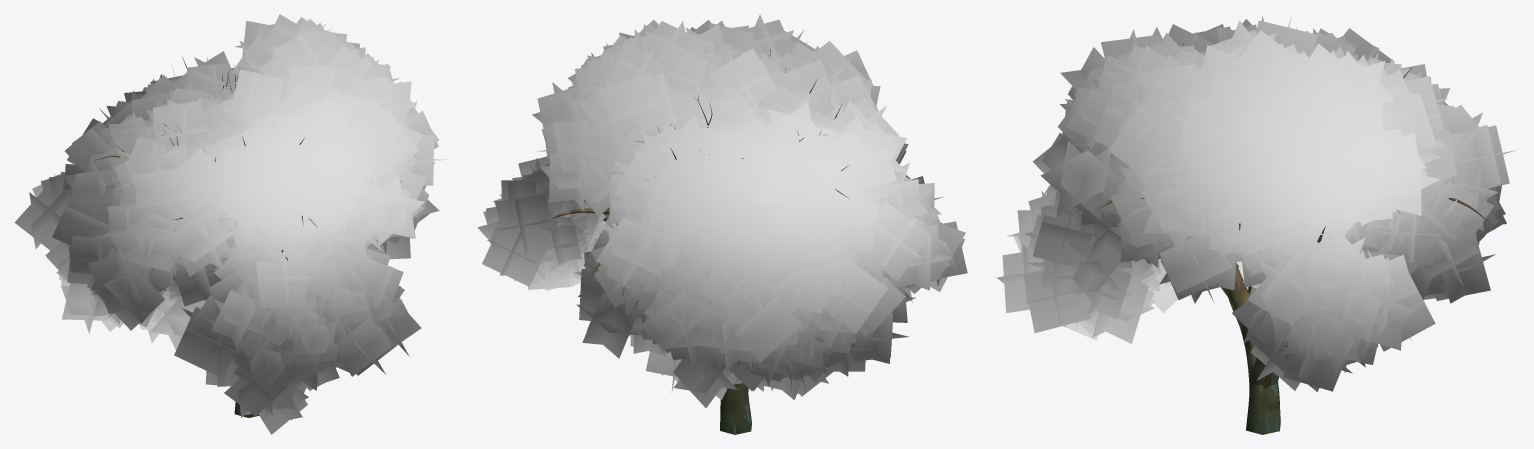
Rendered from tree1.fbx.
3 renders of one model, left to right at view 1: azimuth 30°, elevation 25°; view 2: azimuth 150°, elevation 25°; view 3: azimuth 270°, elevation 25°, orthographic. The views are drawn at different scales.
Parts seen in each view (by area): view 1: TreeLeaf4, TreeTrunk4; view 2: TreeLeaf4, TreeTrunk4; view 3: TreeLeaf4, TreeTrunk4.
Boxes of the visible parts, x1,y1,x2,y2 form: TreeLeaf4: (14, 14, 446, 434); TreeTrunk4: (94, 55, 401, 417); TreeLeaf4: (477, 14, 967, 408); TreeTrunk4: (551, 48, 848, 434); TreeLeaf4: (996, 15, 1516, 391); TreeTrunk4: (1088, 29, 1495, 434).
Size of the model in its own units: 16.13 by 16.15 by 14.47.
2 materials, 1 textured.
